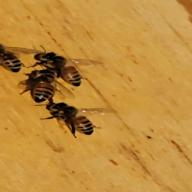Bee: (30, 46, 92, 90), (42, 103, 102, 136), (27, 59, 58, 107)
